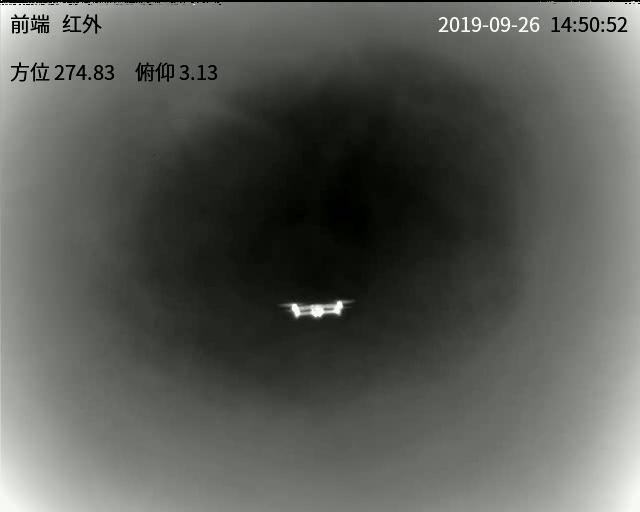DRONE: (283, 298, 351, 318)
